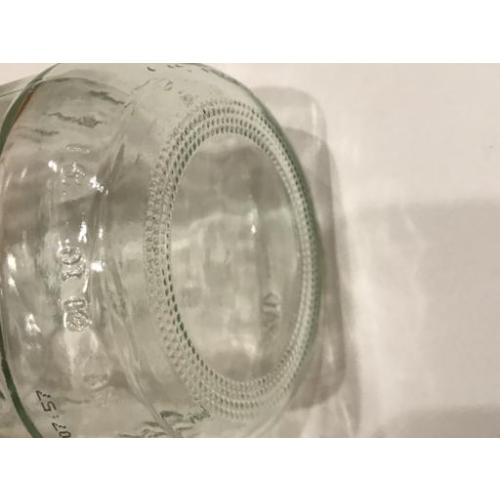glass: (2, 62, 322, 439)
